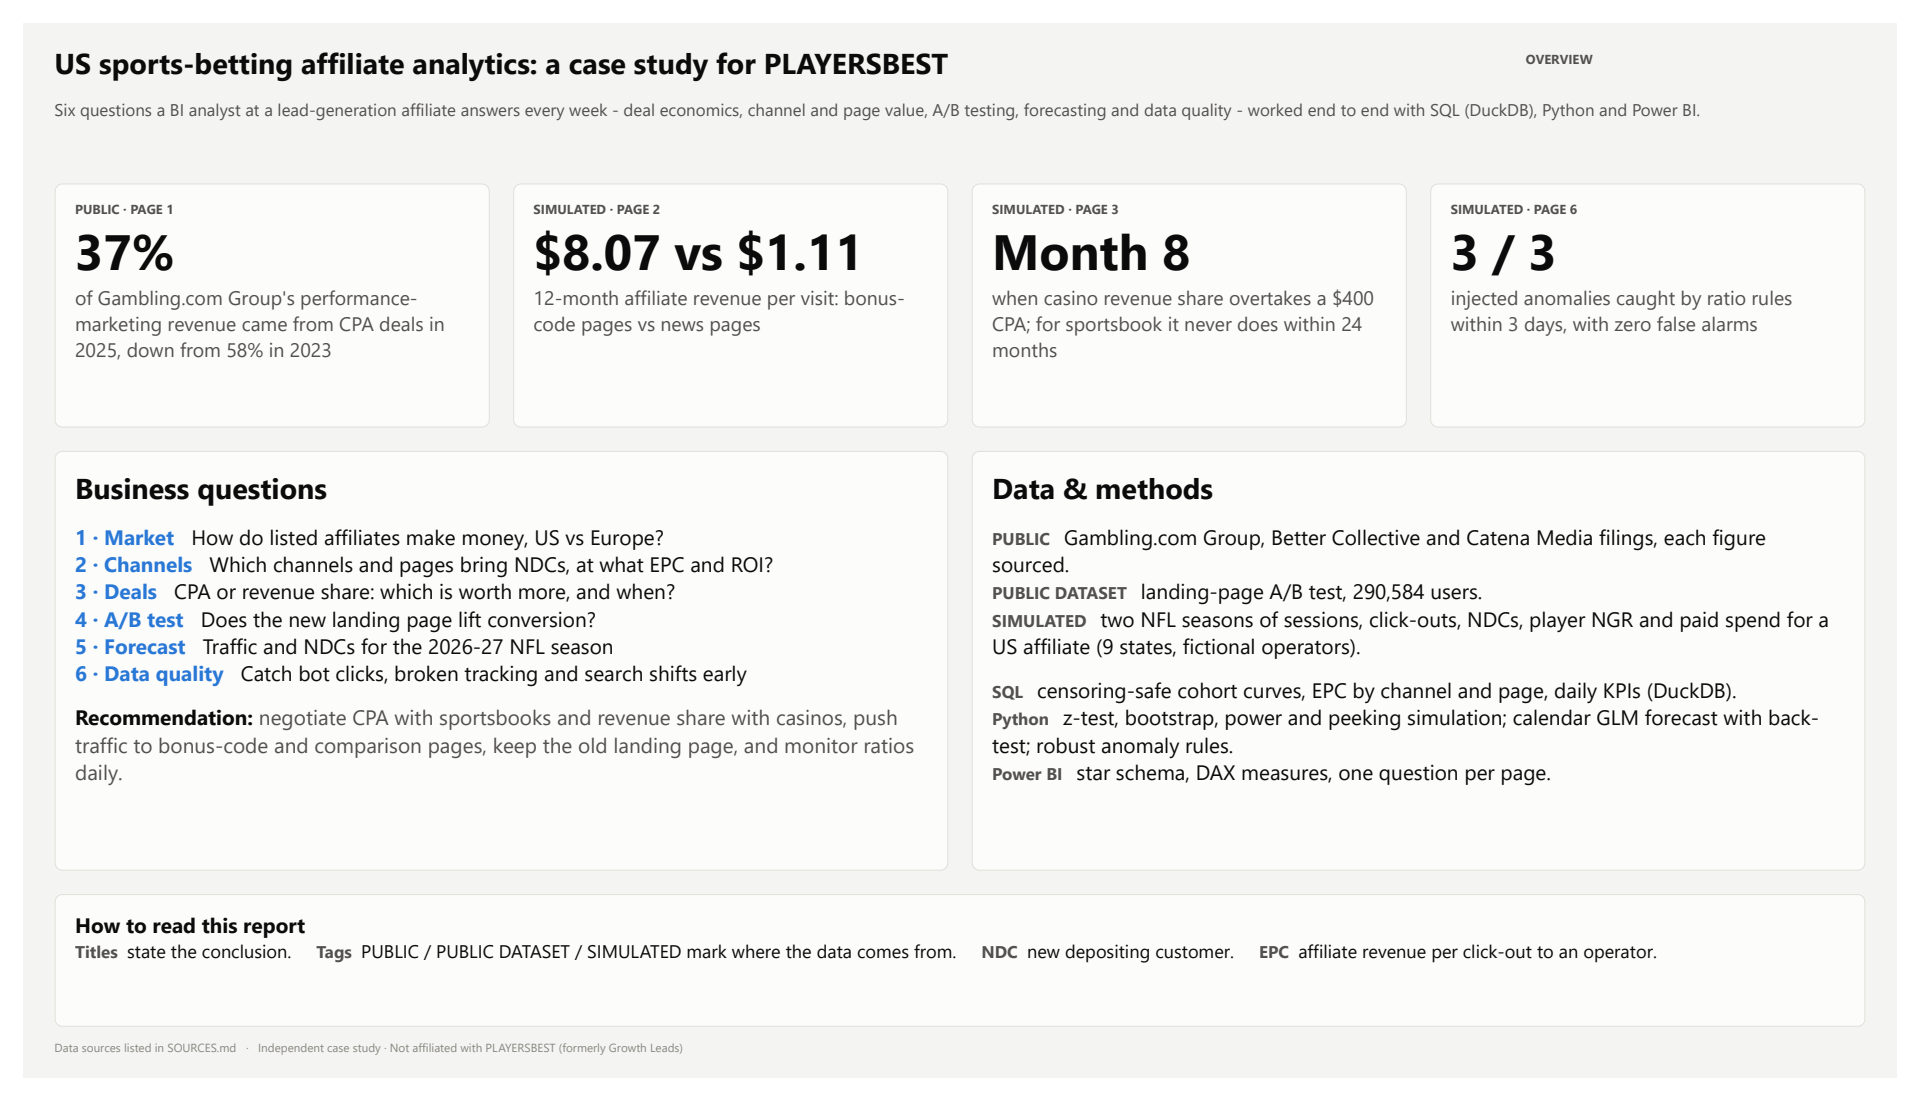

Layout of this report page (visuals, bound fields, positions):
{"tool":"powerbi","page":{"name":"Overview","canvas":[1920,1080],"ordinal":0},"visuals":[{"type":"textbox","box":[32,20,1500,56],"z":1000},{"type":"textbox","box":[1540,28,348,40],"z":2000},{"type":"textbox","box":[32,76,1856,72],"z":3000},{"type":"textbox","box":[32,164,446,250],"z":4000},{"type":"textbox","box":[502,164,446,250],"z":5000},{"type":"textbox","box":[972,164,446,250],"z":6000},{"type":"textbox","box":[1442,164,446,250],"z":7000},{"type":"textbox","box":[32,438,916,430],"z":8000},{"type":"textbox","box":[972,438,916,430],"z":9000},{"type":"textbox","box":[32,892,1856,136],"z":10000},{"type":"textbox","box":[32,1040,1856,32],"z":11000}]}

Visuals, with their boxes in screenshot pixels (x1, y1, x2, y2), scaled from the page's 1920x1080 canvas onto the 1920x1101 screenshot:
textbox: BBox(32, 20, 1532, 77)
textbox: BBox(1540, 29, 1888, 69)
textbox: BBox(32, 77, 1888, 151)
textbox: BBox(32, 167, 478, 422)
textbox: BBox(502, 167, 948, 422)
textbox: BBox(972, 167, 1418, 422)
textbox: BBox(1442, 167, 1888, 422)
textbox: BBox(32, 447, 948, 885)
textbox: BBox(972, 447, 1888, 885)
textbox: BBox(32, 909, 1888, 1048)
textbox: BBox(32, 1060, 1888, 1093)
